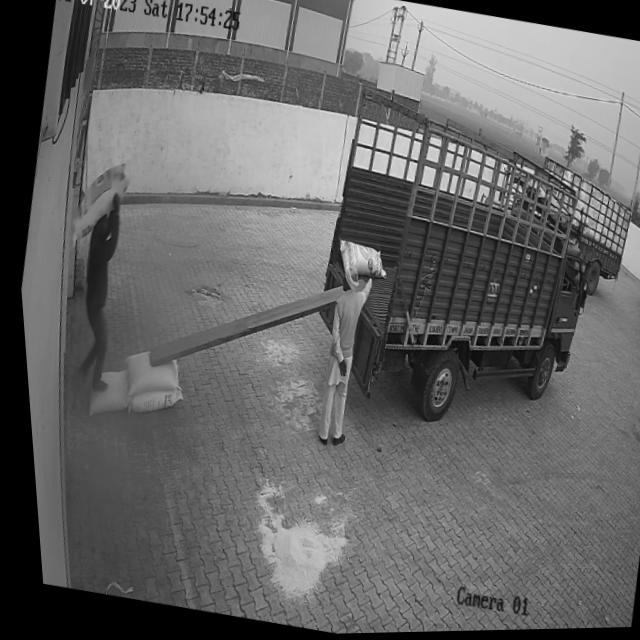sack: (64, 156, 132, 248), (113, 347, 178, 400), (78, 363, 128, 421), (329, 239, 388, 284), (119, 380, 179, 421)
